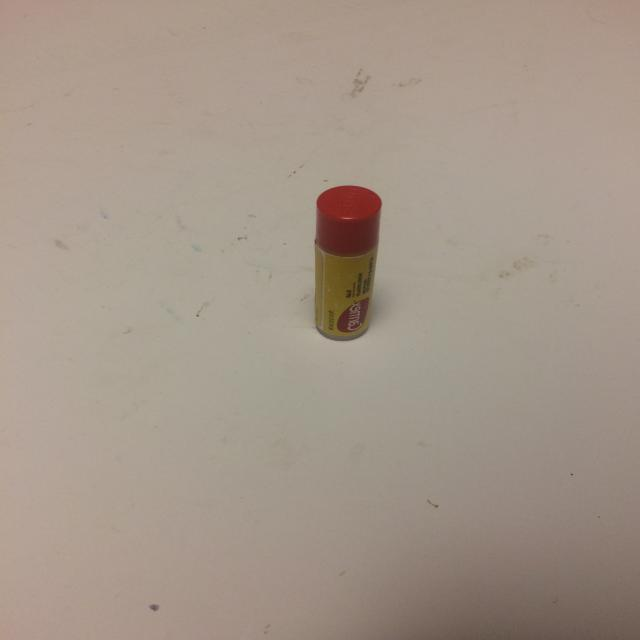trash: (314, 185, 383, 341)
